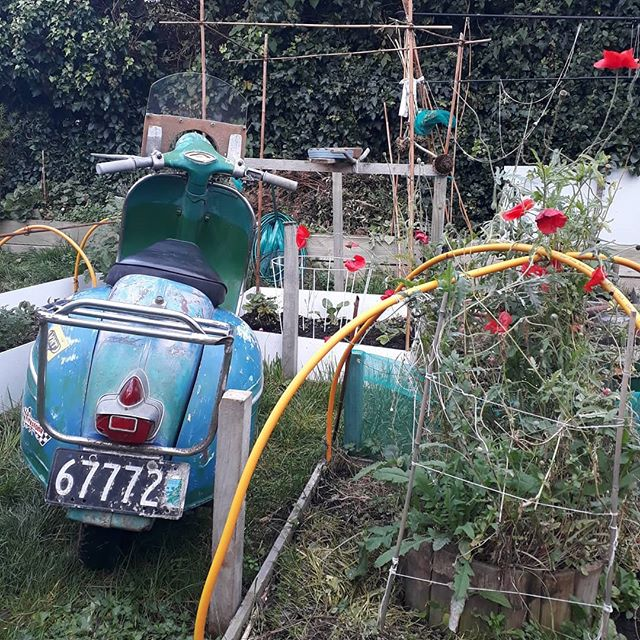motorcycle: (24, 80, 304, 554)
vegetation: (319, 207, 616, 640), (14, 6, 640, 196)
